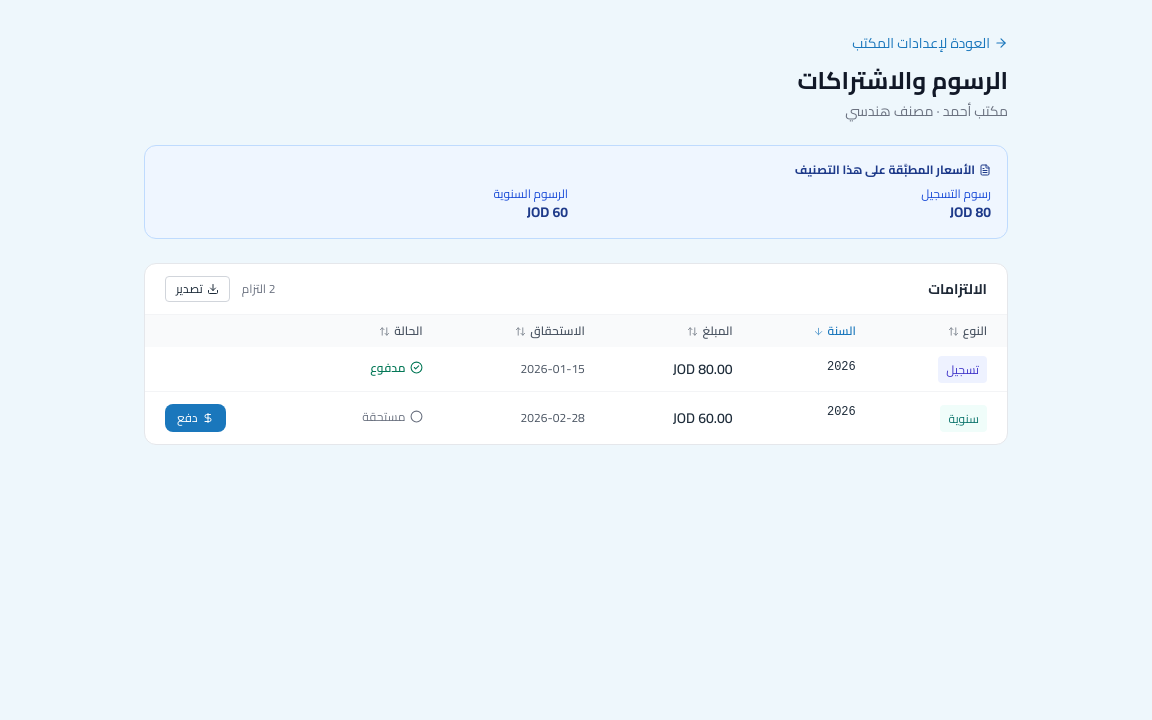
Test: OfficeDues (JORD-79 UI) › refuses submit with an empty reference (client-side)
The width and height of the screenshot is (1152, 720).
Click the button with test id "pay-btn-2" at point(195, 418), box [165,404,226,432]
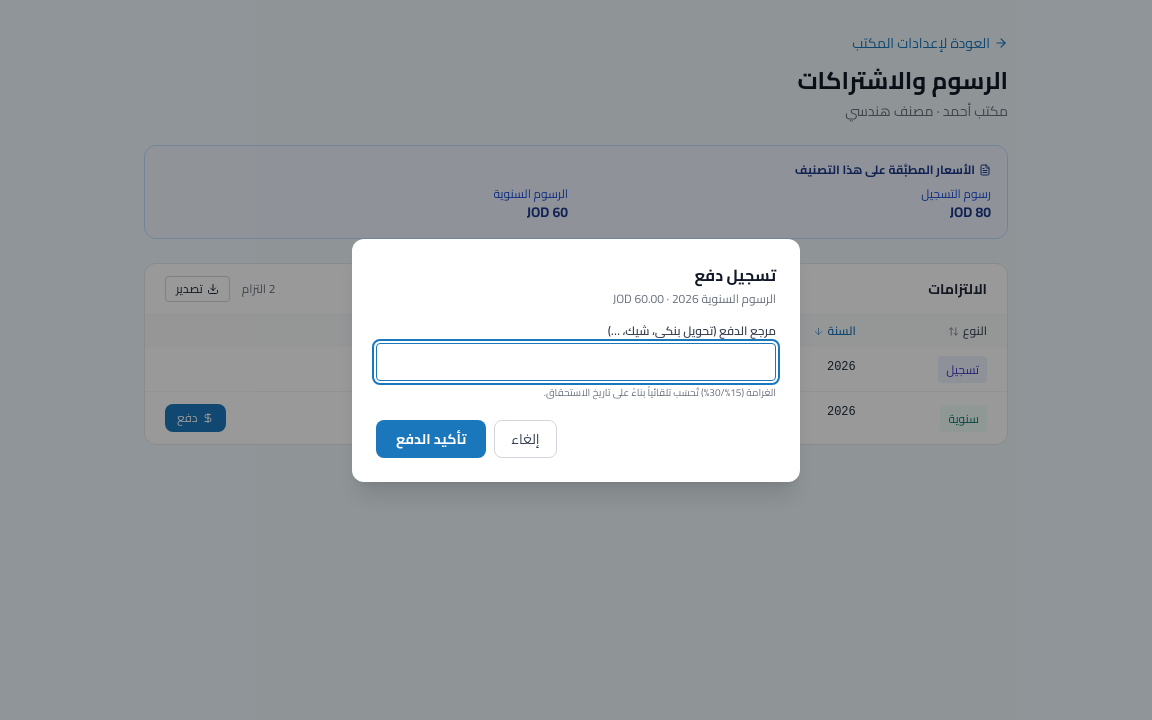
Click the button with test id "pay-submit" at point(431, 438), box [376,420,486,458]
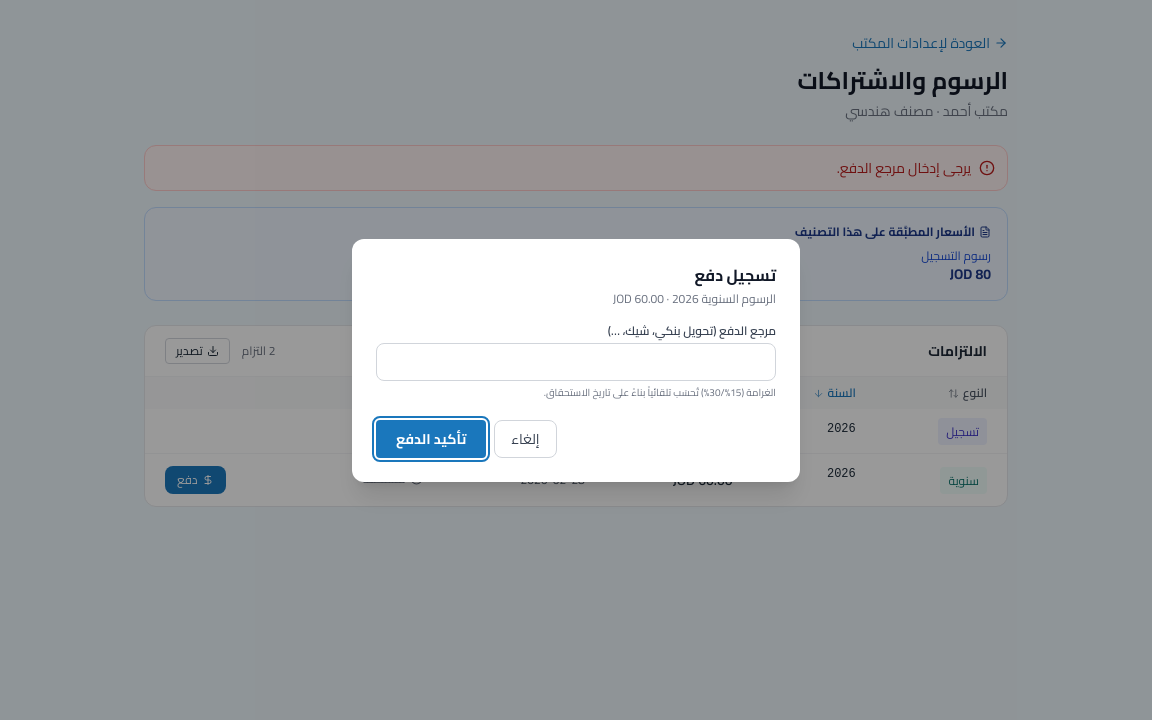
Now the text "يرجى إدخال مرجع الدفع." is shown, box [837,158,971,178]
